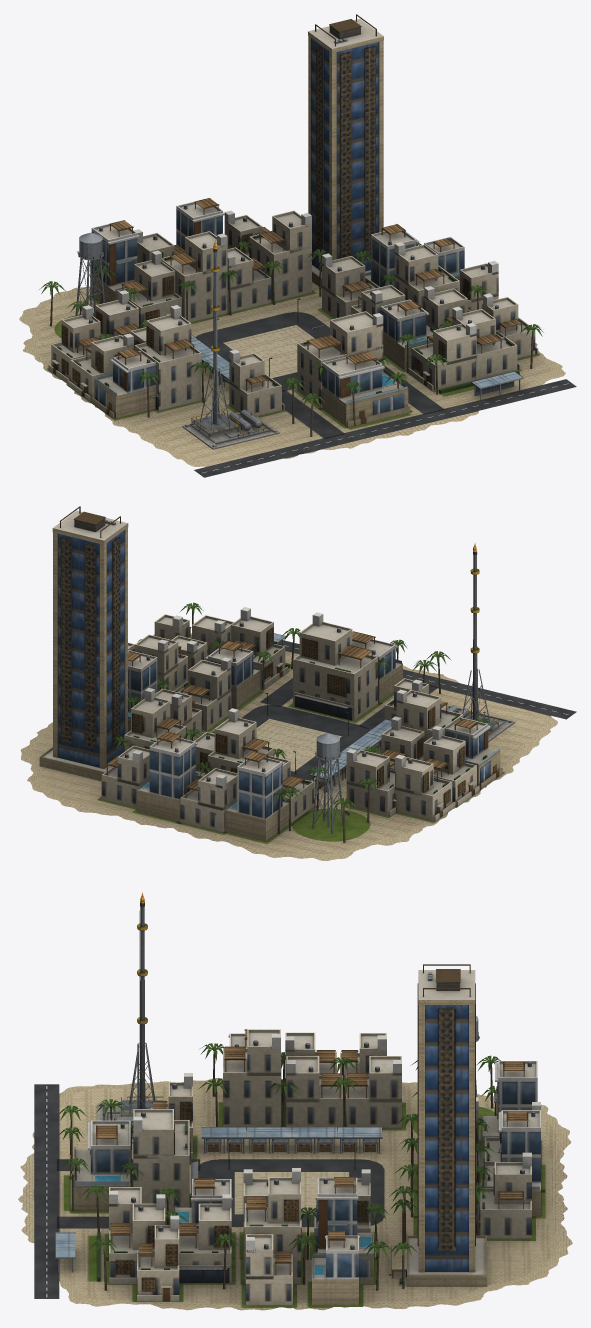
The model's file is modern-town-big-b-levant.glb.
The picture shows the model from 3 angles, top to bottom: view 1: azimuth 30°, elevation 25°; view 2: azimuth 150°, elevation 25°; view 3: azimuth 270°, elevation 25°; orthographic projection. The views are drawn at different scales.
Visible parts, largest first — view 1: LOD0; view 2: LOD0; view 3: LOD0.
Boxes of the visible parts, bbox=[...] form: LOD0: bbox=[19, 14, 576, 477]; LOD0: bbox=[20, 506, 576, 860]; LOD0: bbox=[18, 892, 572, 1310].
Size of what is drawn, in the model's own units: 8.04 by 4.65 by 8.09.
Materials: 3 (3 with a texture image).
